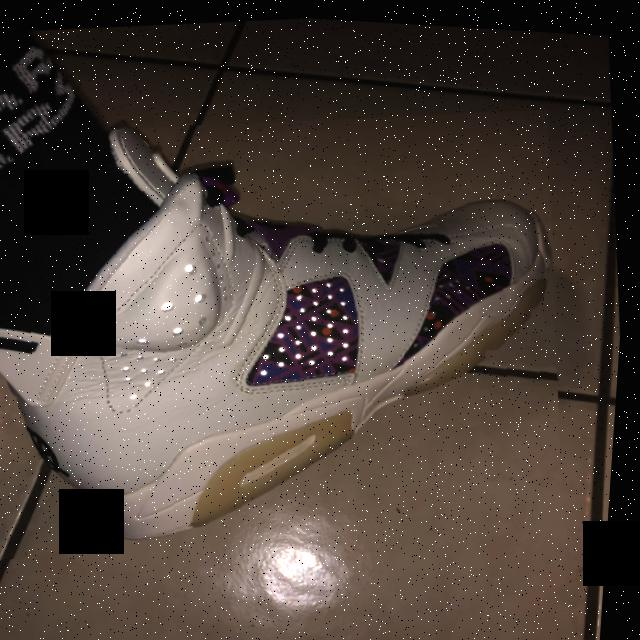shoe: (0, 76, 592, 587)
